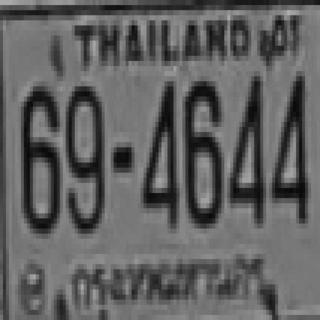N04: (227, 74, 263, 221), (140, 79, 176, 226), (270, 71, 306, 218)
N06: (18, 81, 57, 229), (182, 76, 221, 223)
N09: (64, 81, 103, 229)
P60: (71, 242, 273, 314)
